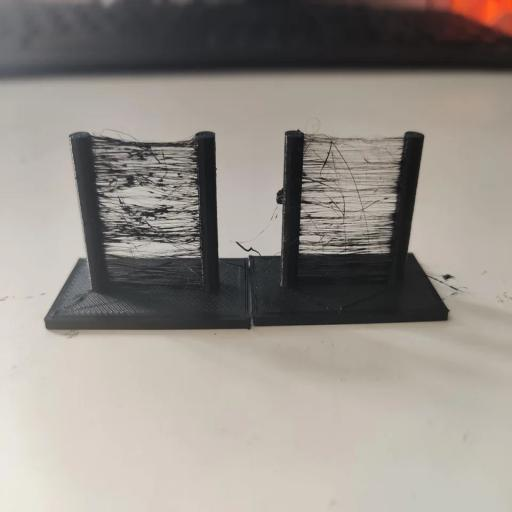stringing: (94, 129, 201, 287), (301, 132, 404, 281)
